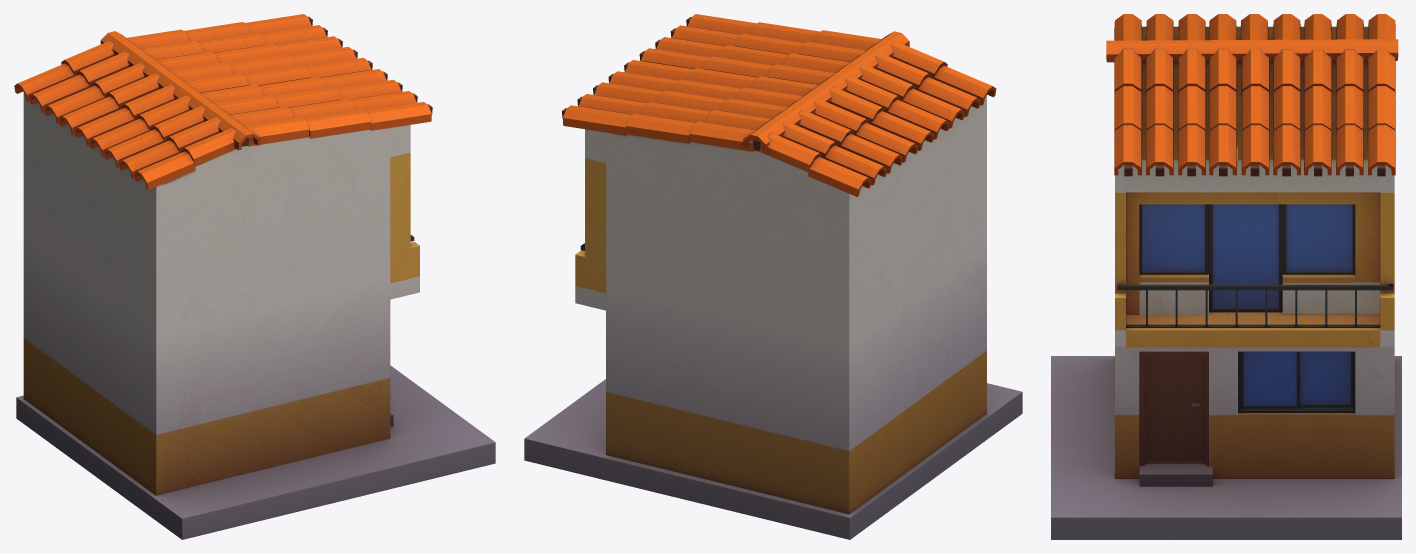
The model's file is casa-estrato-4.glb.
3 views of the same model, side by side, from view 1: azimuth 30°, elevation 25°; view 2: azimuth 150°, elevation 25°; view 3: azimuth 270°, elevation 25° (orthographic). The views are drawn at different scales.
Visible parts, largest first — view 1: Beige 4, Tejas 4, Gris 4; view 2: Beige 4, Tejas 4, Gris 4; view 3: Beige 4, Tejas 4, Gris 4, Negro 4, Madera 4, Balcon 4, Material.004.
Part boxes in pixels (box(x1,y1,x2,y2)): Beige 4: box(23, 90, 419, 495); Tejas 4: box(14, 14, 431, 189); Gris 4: box(16, 365, 495, 539); Beige 4: box(575, 70, 986, 514); Tejas 4: box(562, 14, 996, 196); Gris 4: box(524, 379, 1022, 539); Beige 4: box(1115, 26, 1394, 478); Tejas 4: box(1106, 14, 1398, 175); Gris 4: box(1051, 356, 1401, 539); Negro 4: box(1139, 204, 1355, 412); Madera 4: box(1139, 351, 1208, 466); Balcon 4: box(1117, 284, 1393, 327); Material.004: box(1124, 164, 1385, 176).
Bounding box in the file's own units: 4.56 × 4.97 × 4.1.
8 materials, 8 textured.
